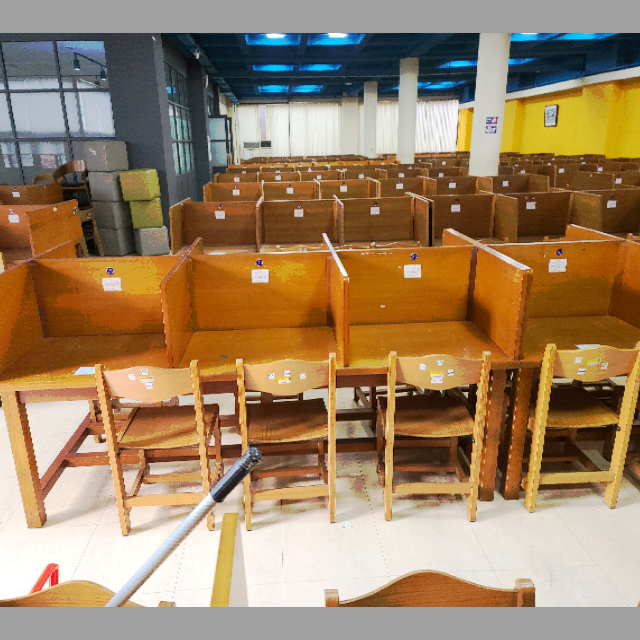empty: (174, 242, 350, 431), (354, 238, 521, 437), (1, 242, 169, 425)
